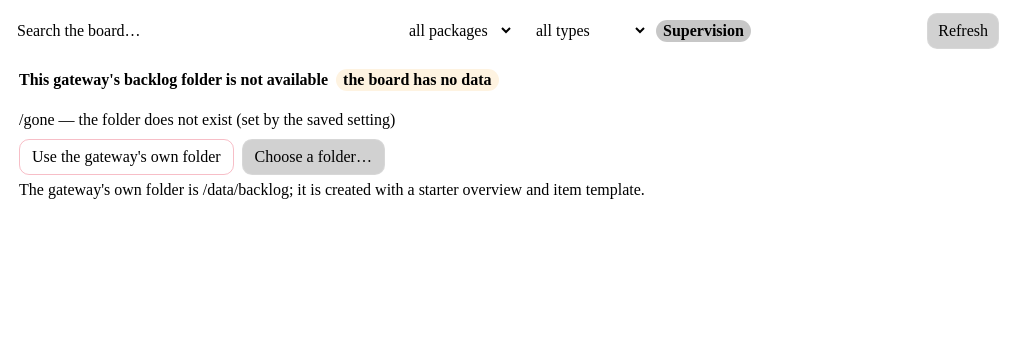
Test: Board — backlog folder states › Choose a folder…: the gateway validates, its refusal is shown as is
Click the button "Choose a folder…". click: (313,157)
box: top-left (242, 139), bottom-right (385, 175)
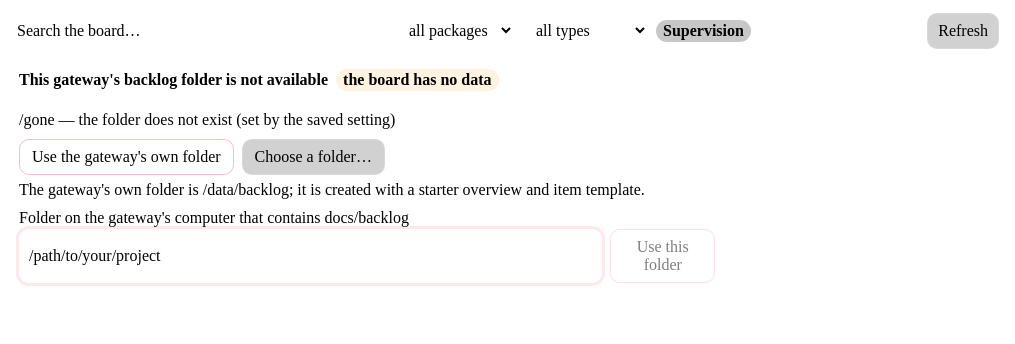
Type "/tmp/nothing" into the field labelled "Folder on the gateway's computer that contains docs/backlog". click: (311,256)
box: top-left (19, 229), bottom-right (602, 283)
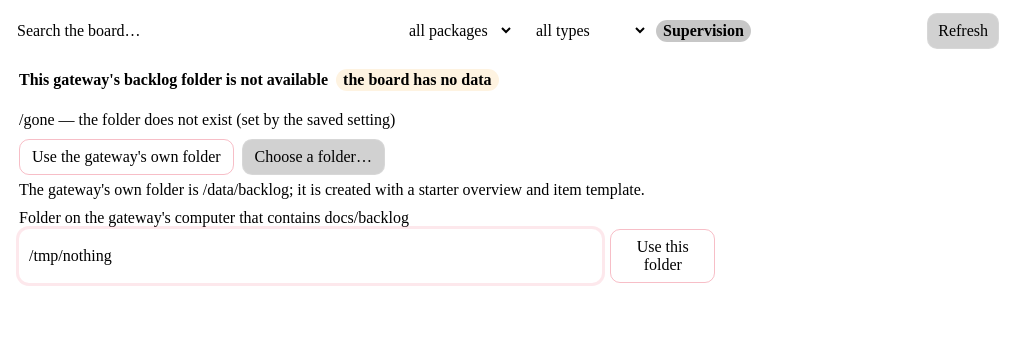
Click the button "Use this folder". click: (663,256)
box: top-left (610, 229), bottom-right (715, 283)
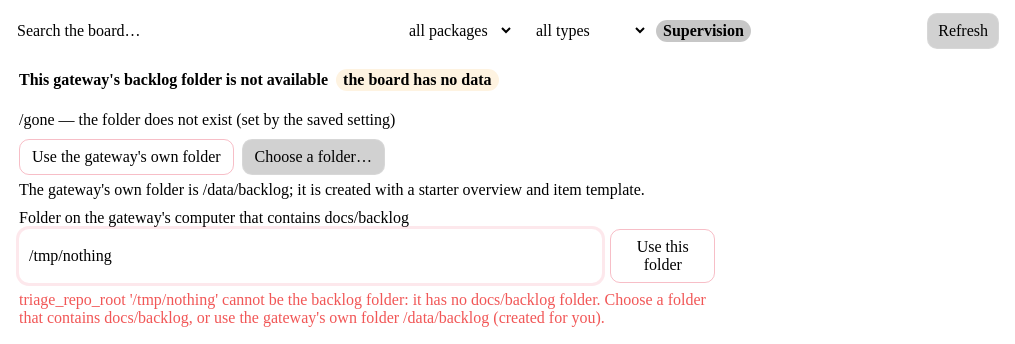
Check: the message shows "triage_repo_root '/tmp/nothing' cannot be the backlog folder: it has no docs/backlog folder", box top-left (19, 291), bottom-right (706, 326)
